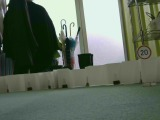speed_20: (135, 44, 153, 60)
